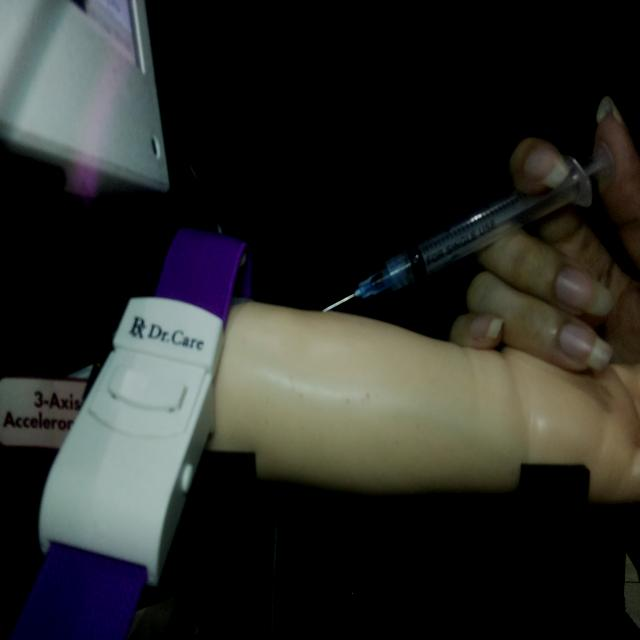18 degrees: (320, 138, 616, 315)
